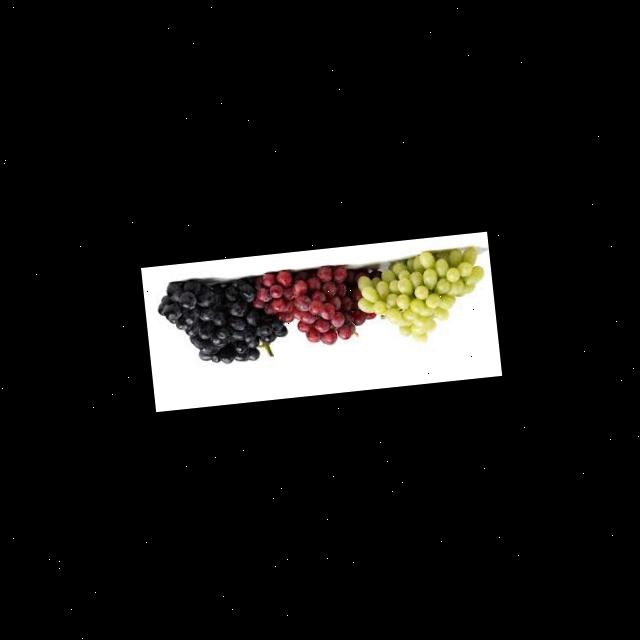grape: (352, 244, 491, 348), (154, 268, 290, 370), (248, 259, 388, 352)
